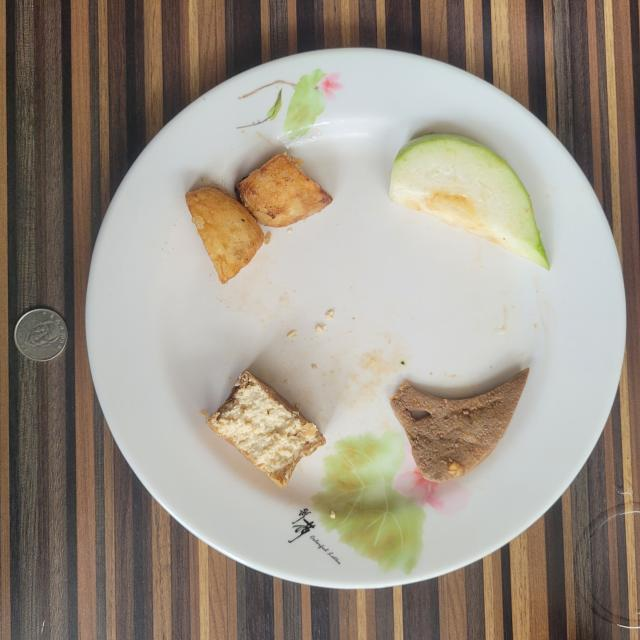coin: (14, 309, 68, 361)
egg tofu: (206, 371, 325, 488)
fried potato: (185, 154, 332, 284)
guava -sliced-: (389, 134, 550, 269)
pig liver: (390, 368, 529, 482)
